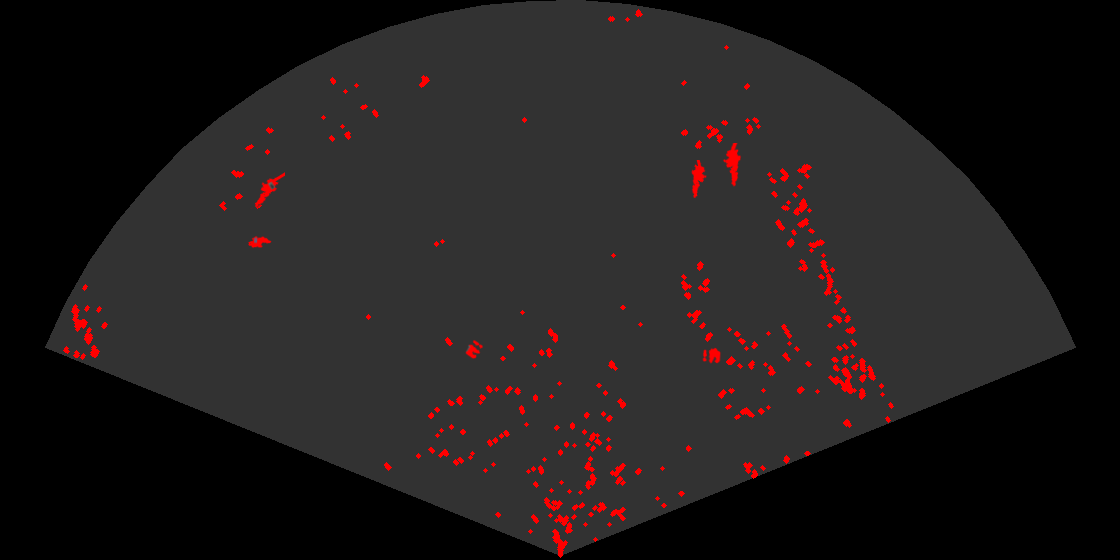AUV: (247, 235, 273, 250)
ball: (464, 338, 485, 360), (701, 346, 722, 365)
frogman: (249, 172, 285, 209), (721, 143, 743, 187), (690, 160, 708, 198)
